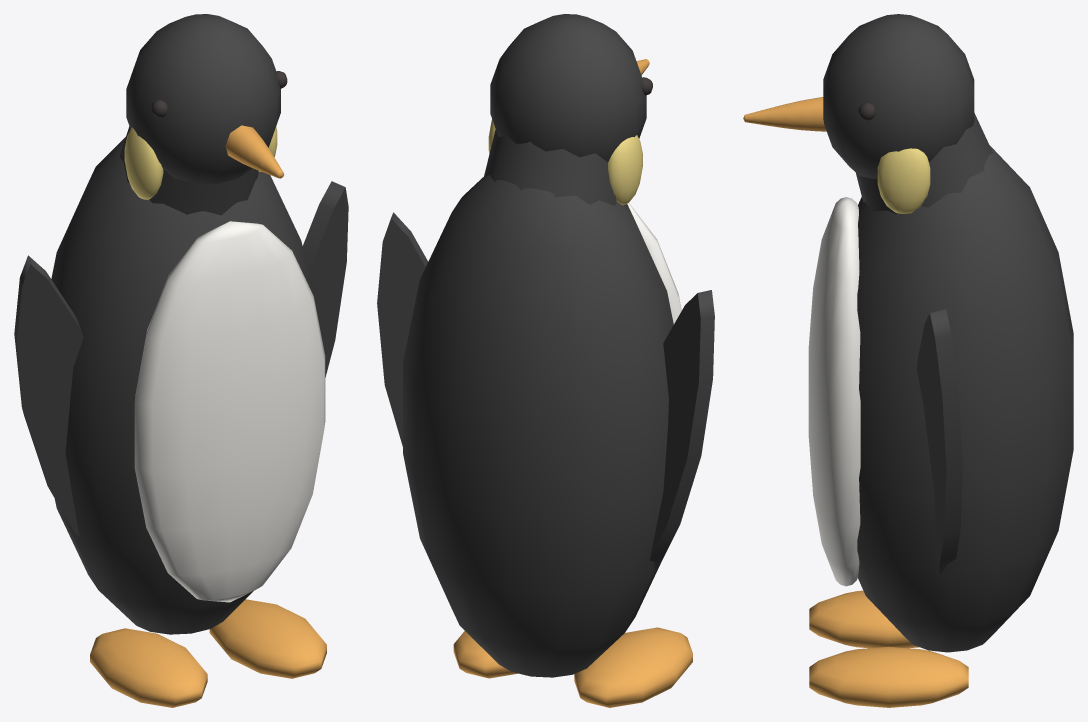
Rendered from emperor_penguin.glb.
3 renders of one model, left to right at view 1: azimuth 30°, elevation 25°; view 2: azimuth 150°, elevation 25°; view 3: azimuth 270°, elevation 25°, orthographic.
Visible parts, largest first — view 1: emperor-penguin; view 2: emperor-penguin; view 3: emperor-penguin.
Boxes of the visible parts, <box> form: emperor-penguin: <box>14,14,348,707</box>; emperor-penguin: <box>377,14,714,707</box>; emperor-penguin: <box>743,14,1073,707</box>.
Size of the model in its own units: 0.5801 by 1.1 by 0.5044.
